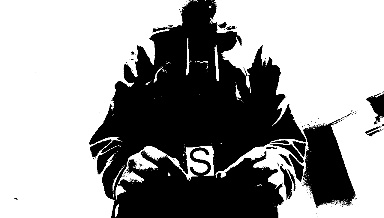S: (185, 145, 215, 176)
